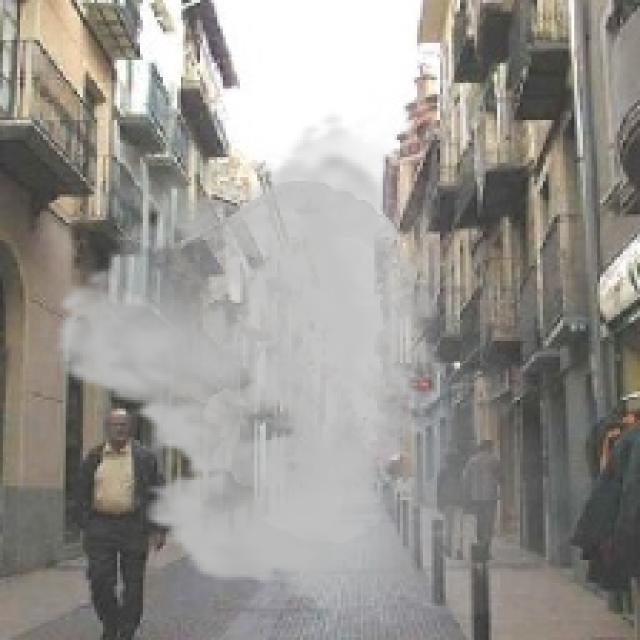smoke: (34, 111, 600, 626)
